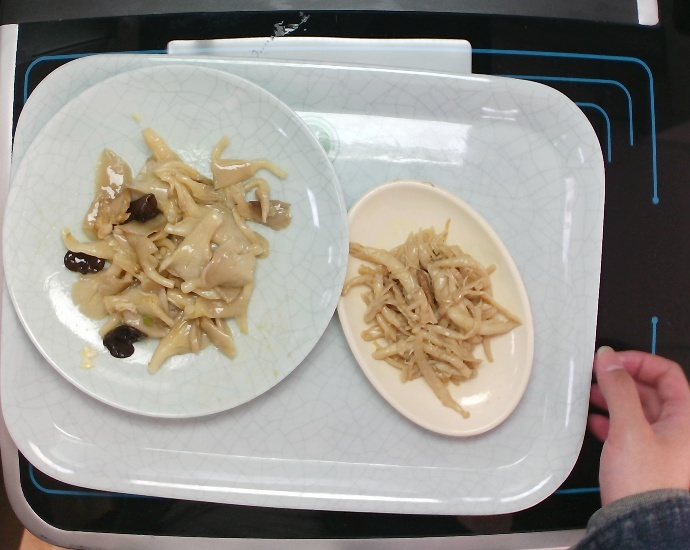JYsf-Da_Yuan_Pan: (1, 64, 368, 434)
JYsf-Tuo_Yuan_Wan: (330, 176, 541, 446)
